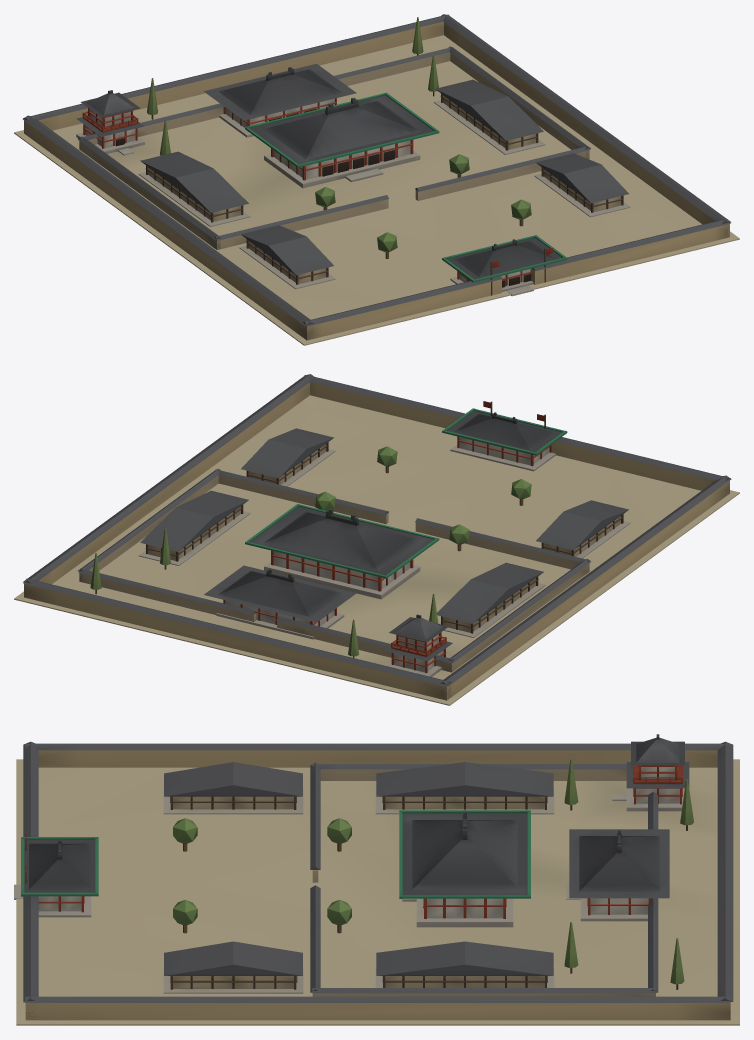
The model's file is yamen.glb.
3 views of the same model, one above another, from view 1: azimuth 30°, elevation 25°; view 2: azimuth 150°, elevation 25°; view 3: azimuth 270°, elevation 25° (orthographic). The views are drawn at different scales.
Visible parts, largest first — view 1: p0_walls, p2_trees, p1_halls; view 2: p0_walls, p2_trees, p1_halls; view 3: p0_walls, p2_trees, p1_halls.
Part boxes in pixels (x1,y1,x2,y2): p0_walls: [14, 14, 739, 345]; p2_trees: [76, 17, 628, 295]; p1_halls: [76, 93, 630, 296]; p0_walls: [14, 374, 739, 705]; p2_trees: [90, 401, 628, 661]; p1_halls: [138, 436, 630, 676]; p0_walls: [16, 741, 739, 1025]; p2_trees: [21, 734, 693, 989]; p1_halls: [14, 765, 684, 993].
Size of the model in its own units: 130 by 17.09 by 150.
